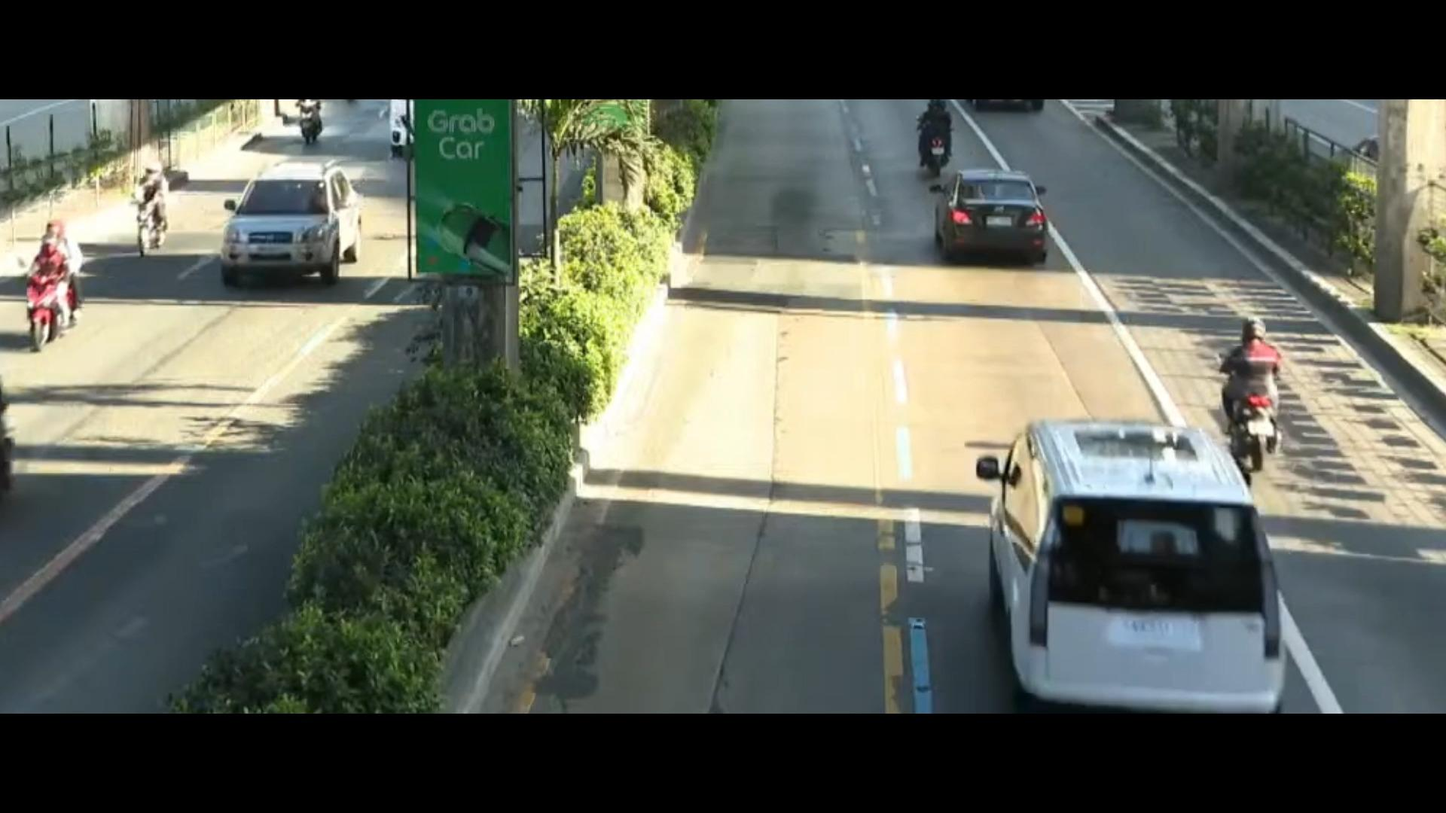Motorcycle: (1206, 301, 1324, 491), (7, 213, 96, 368), (891, 91, 974, 196), (132, 153, 200, 267), (286, 104, 339, 157)
SUV: (202, 157, 381, 288)
Sedan: (905, 149, 1064, 286)
Van: (942, 406, 1324, 706)
